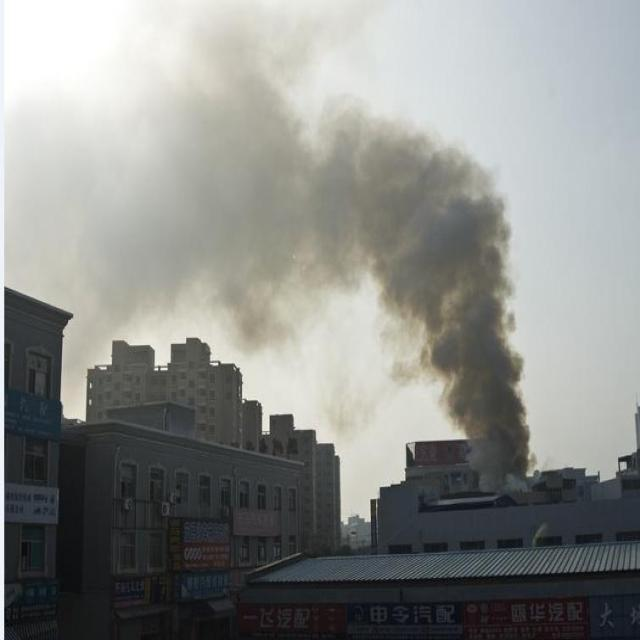Smoke: (0, 2, 366, 352), (367, 104, 546, 500)
